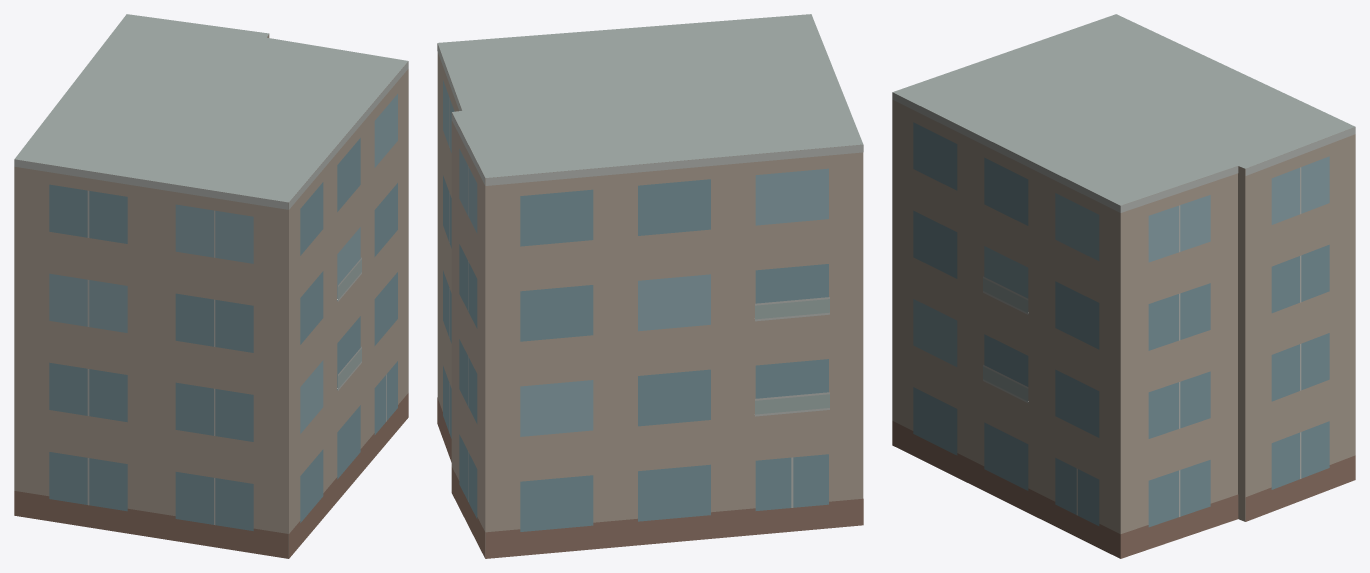
Rendered from survey-upis-32727652.glb.
3 renders of one model, left to right at view 1: azimuth 30°, elevation 25°; view 2: azimuth 150°, elevation 25°; view 3: azimuth 270°, elevation 25°, orthographic. The views are drawn at different scales.
Visible parts, largest first — view 1: survey-upis-32727652.tmp; view 2: survey-upis-32727652.tmp; view 3: survey-upis-32727652.tmp.
Part boxes in pixels (x1,y1,x2,y2): survey-upis-32727652.tmp: [14, 14, 408, 558]; survey-upis-32727652.tmp: [437, 14, 863, 558]; survey-upis-32727652.tmp: [892, 14, 1355, 558].
Bounding box in the file's own units: 13.63 × 11.7 × 13.91.
